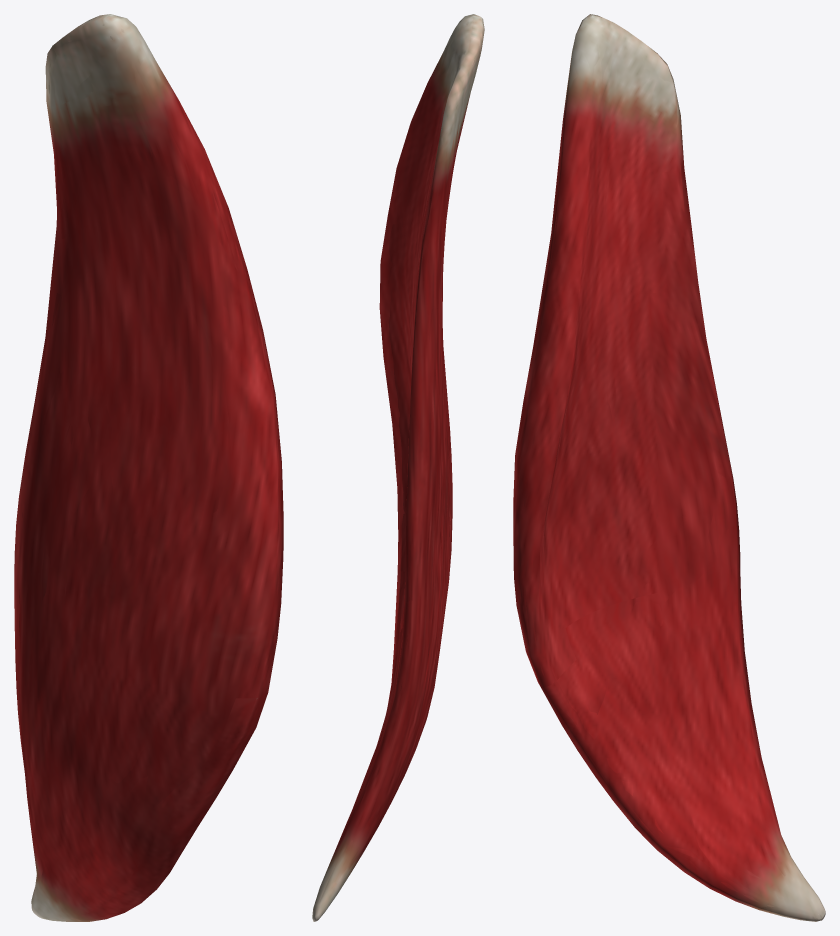
The model's file is L Sartorius.fbx.
3 views of the same model, side by side, from view 1: azimuth 30°, elevation 25°; view 2: azimuth 150°, elevation 25°; view 3: azimuth 270°, elevation 25° (orthographic). The views are drawn at different scales.
Visible parts, largest first — view 1: L Sartorius, L Sartorius low, L Sartorius high; view 2: L Sartorius, L Sartorius low, L Sartorius high; view 3: L Sartorius, L Sartorius high, L Sartorius low.
Boxes of the visible parts, x1,y1,x2,y2 form: L Sartorius: [14, 14, 283, 921]; L Sartorius low: [15, 14, 283, 921]; L Sartorius high: [19, 16, 280, 915]; L Sartorius: [312, 14, 484, 921]; L Sartorius low: [312, 16, 483, 920]; L Sartorius high: [318, 16, 482, 911]; L Sartorius: [513, 14, 825, 921]; L Sartorius high: [515, 21, 822, 919]; L Sartorius low: [513, 14, 823, 917].
Bounding box in the file's own units: 2.49 × 15.03 × 4.84.
